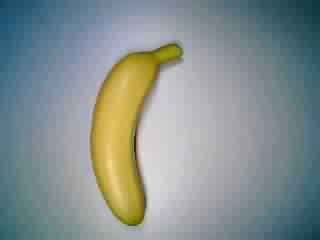banana: (88, 41, 184, 228)
